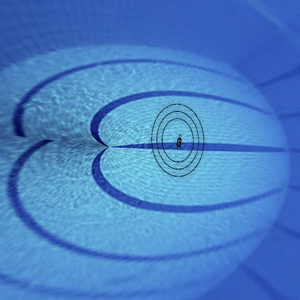circle: (147, 98, 215, 185)
submarine: (170, 131, 186, 150)
